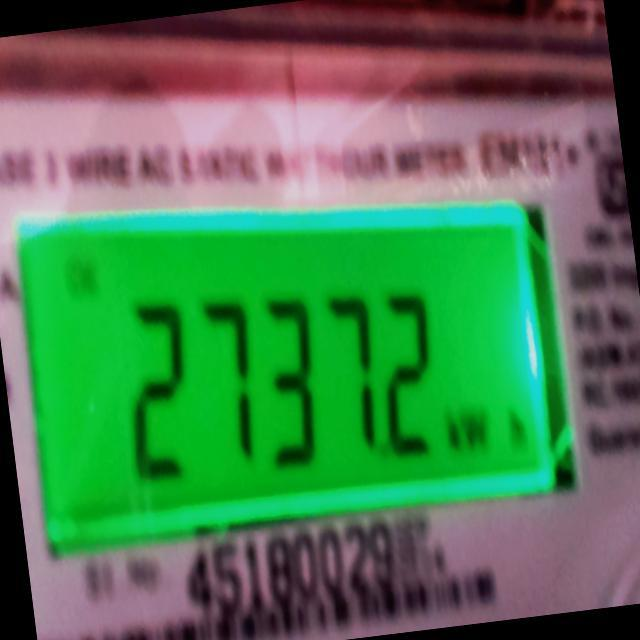LCD: (10, 186, 590, 537)
